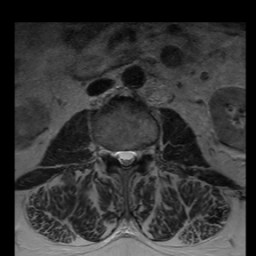CCS_normal: (122, 145, 129, 174)
LFS_normal: (136, 141, 144, 163)
LLS_normal: (129, 144, 136, 169)
RFS_stenosis: (107, 142, 115, 164)
RLS_normal: (115, 144, 122, 169)
